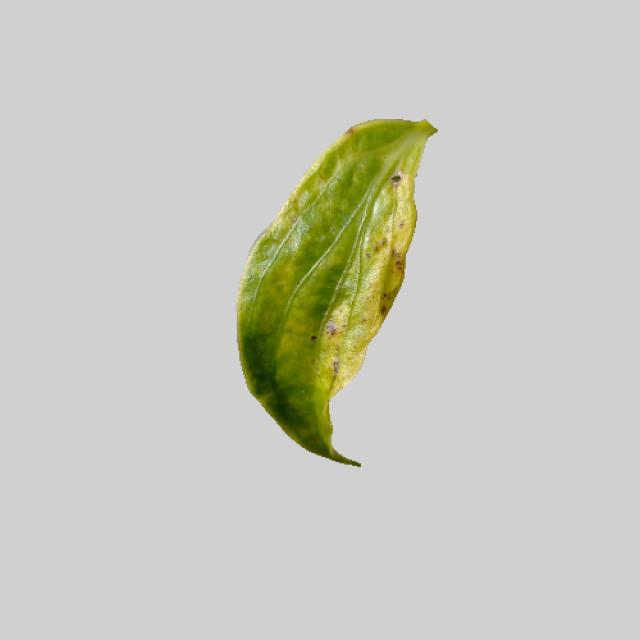yellow-mottle-virus: (230, 117, 437, 467)
